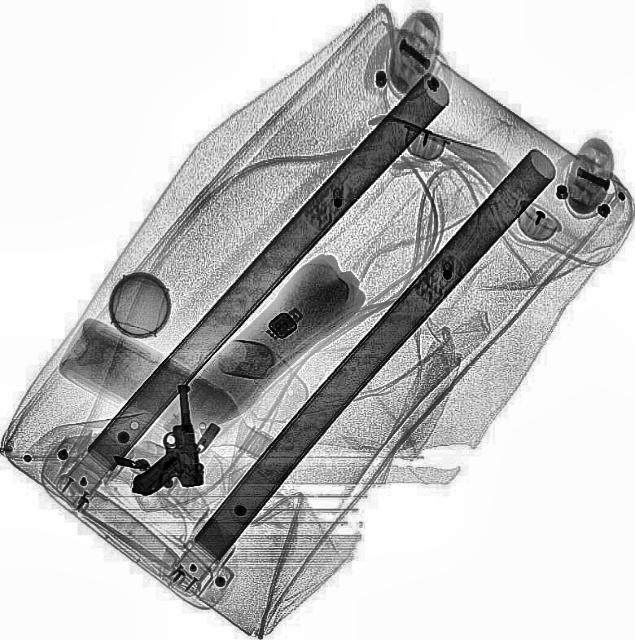Gun: (115, 380, 204, 494)
